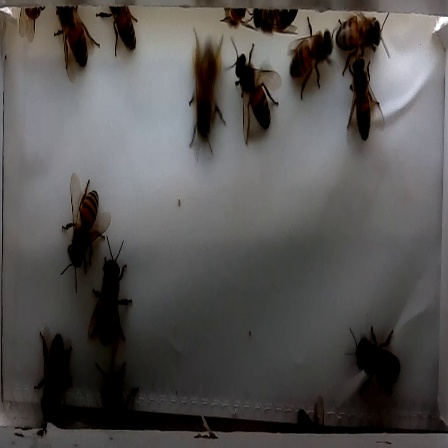bee: (172, 35, 227, 163), (48, 171, 111, 275), (89, 237, 137, 352), (230, 47, 284, 149), (24, 326, 77, 422), (335, 328, 412, 392), (41, 1, 106, 73), (341, 56, 386, 148), (284, 19, 336, 97), (332, 10, 396, 70)
